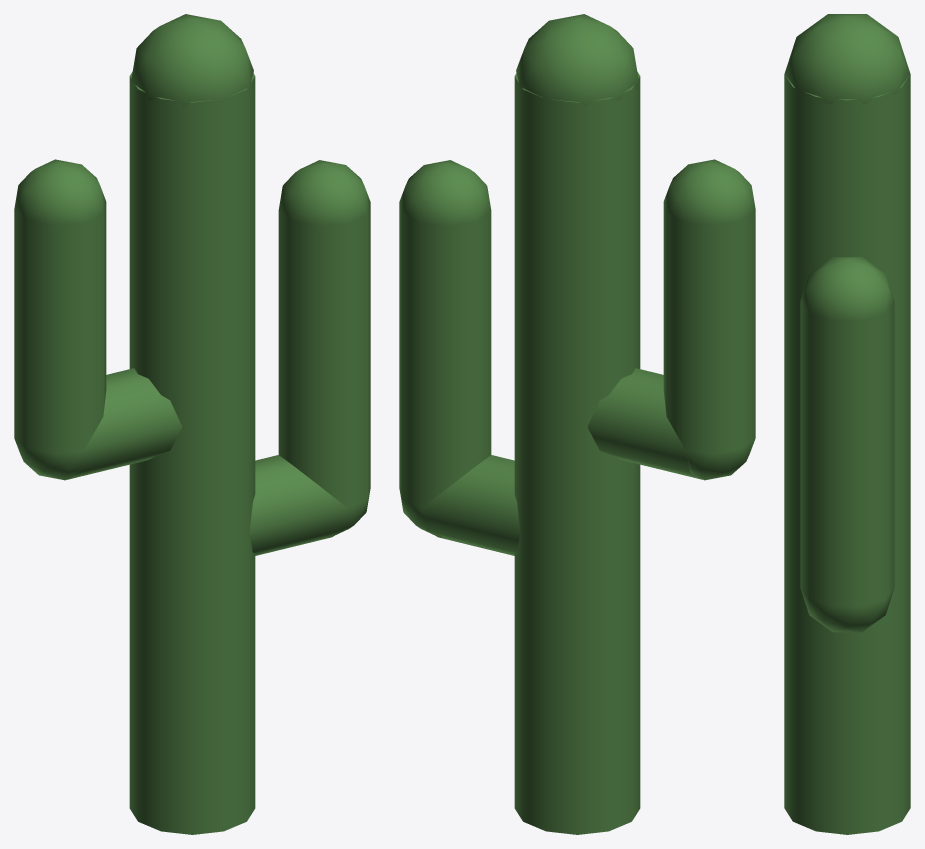
File: cactus.glb
3 views of the same model, side by side, from view 1: azimuth 30°, elevation 25°; view 2: azimuth 150°, elevation 25°; view 3: azimuth 270°, elevation 25° (orthographic).
Visible parts, largest first — view 1: cactus.001; view 2: cactus.001; view 3: cactus.001.
Part boxes in pixels (<box>): cactus.001: <box>14,14,370,834</box>; cactus.001: <box>399,14,755,834</box>; cactus.001: <box>784,14,910,834</box>.
Bounding box in the file's own units: 2.64 × 5.82 × 0.84.
